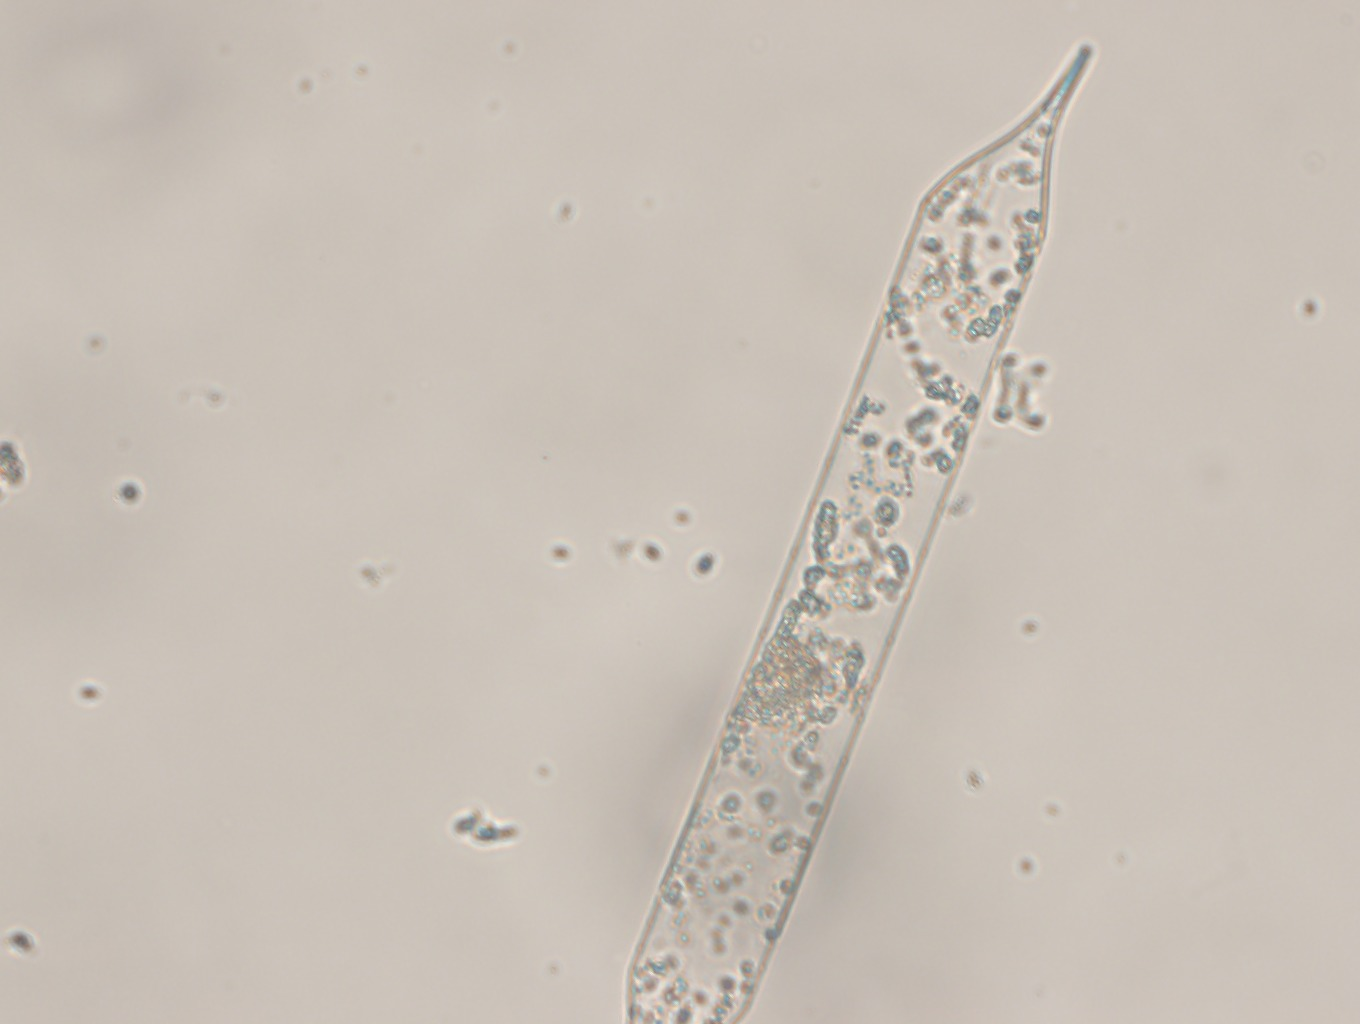rhizosolenia: (585, 34, 1101, 1024)
